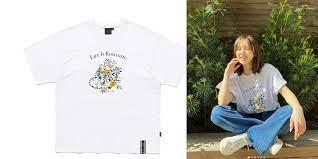Tshirt: (15, 16, 185, 156), (214, 67, 290, 117)
pants: (210, 104, 301, 150)
